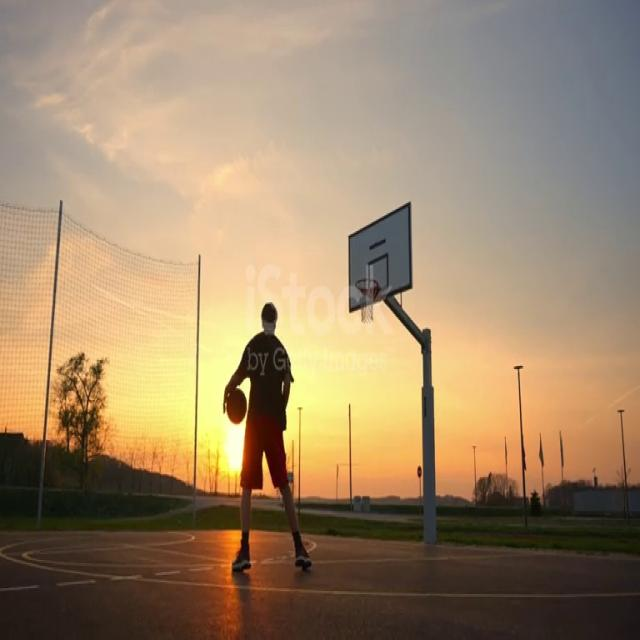ball: (226, 388, 247, 425)
